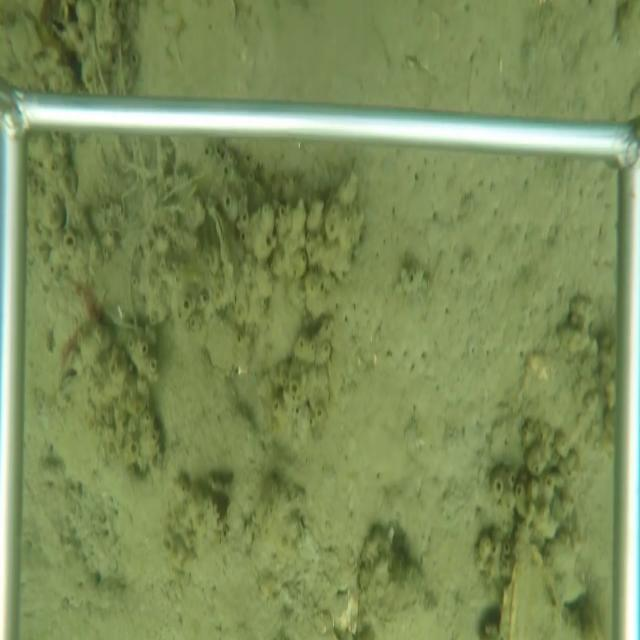Oyster-Closed: (205, 201, 239, 312)
Oyster-Indeterminate: (205, 278, 307, 381), (305, 151, 363, 316)
